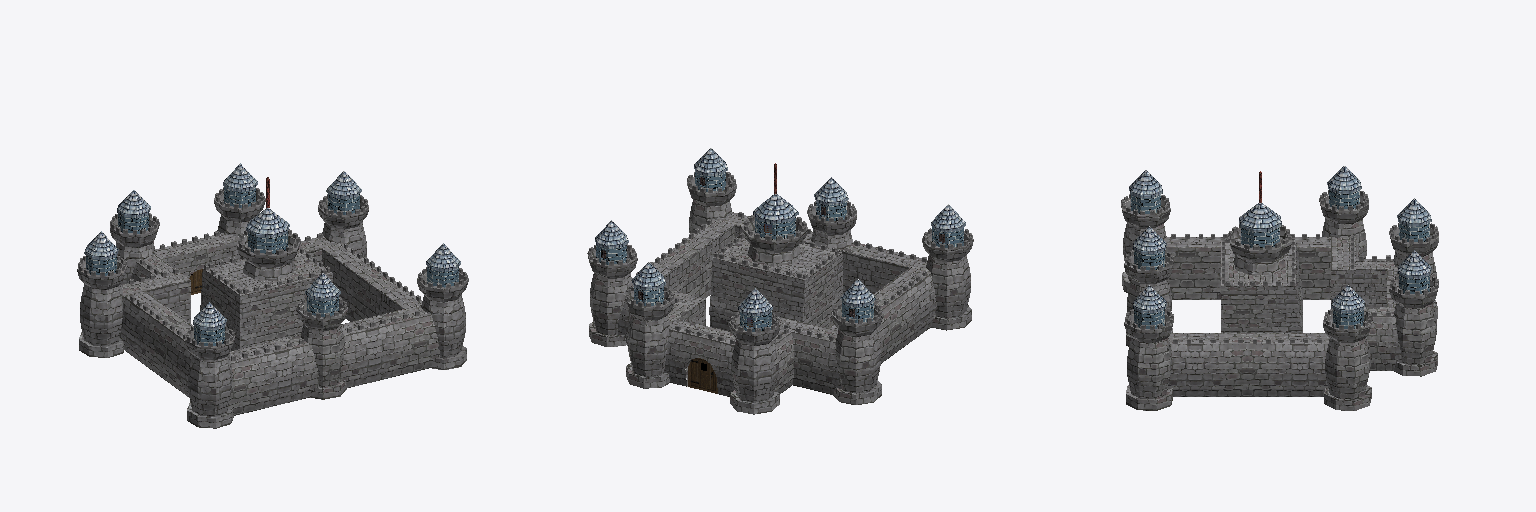
3 renders of one model, left to right at view 1: azimuth 30°, elevation 25°; view 2: azimuth 150°, elevation 25°; view 3: azimuth 270°, elevation 25°, orthographic.
Parts seen in each view (by area): view 1: Form7, Group2_Form8, Group2_Group2_Form8, Group4_Form7, Form9, Form10, Group2_Form7, Group2_Form9; view 2: Group2_Form8, Form7, Group2_Group2_Form8, Group4_Form7, Form10, Group2_Form7, Form9, Group2_Form9, Form20; view 3: Form7, Group2_Group2_Form8, Group2_Form8, Group4_Form7, Form9, Group2_Form7, Group2_Form9.
Boxes of the visible parts, x1=… form: Form7: x1=131, y1=236, x2=439, y2=415; Group2_Form8: x1=77, y1=190, x2=300, y2=428; Group2_Group2_Form8: x1=214, y1=163, x2=468, y2=399; Group4_Form7: x1=120, y1=291, x2=192, y2=396; Form9: x1=78, y1=213, x2=420, y2=360; Form10: x1=155, y1=233, x2=239, y2=277; Group2_Form7: x1=119, y1=272, x2=190, y2=340; Group2_Form9: x1=215, y1=187, x2=467, y2=317; Group2_Form8: x1=729, y1=194, x2=973, y2=414; Form7: x1=618, y1=212, x2=929, y2=393; Group2_Group2_Form8: x1=587, y1=148, x2=856, y2=388; Group4_Form7: x1=828, y1=268, x2=936, y2=363; Form10: x1=664, y1=319, x2=735, y2=396; Group2_Form7: x1=780, y1=317, x2=841, y2=394; Form9: x1=629, y1=212, x2=972, y2=343; Group2_Form9: x1=588, y1=172, x2=856, y2=306; Form20: x1=688, y1=358, x2=717, y2=393; Form7: x1=1162, y1=238, x2=1401, y2=396; Group2_Group2_Form8: x1=1124, y1=226, x2=1438, y2=410; Group2_Form8: x1=1121, y1=166, x2=1438, y2=318; Group4_Form7: x1=1164, y1=237, x2=1330, y2=299; Form9: x1=1121, y1=190, x2=1438, y2=343; Group2_Form7: x1=1331, y1=236, x2=1361, y2=303; Group2_Form9: x1=1125, y1=250, x2=1438, y2=329.
Bounding box in the file's own units: 107 × 61.75 × 104.
12 materials, 6 textured.